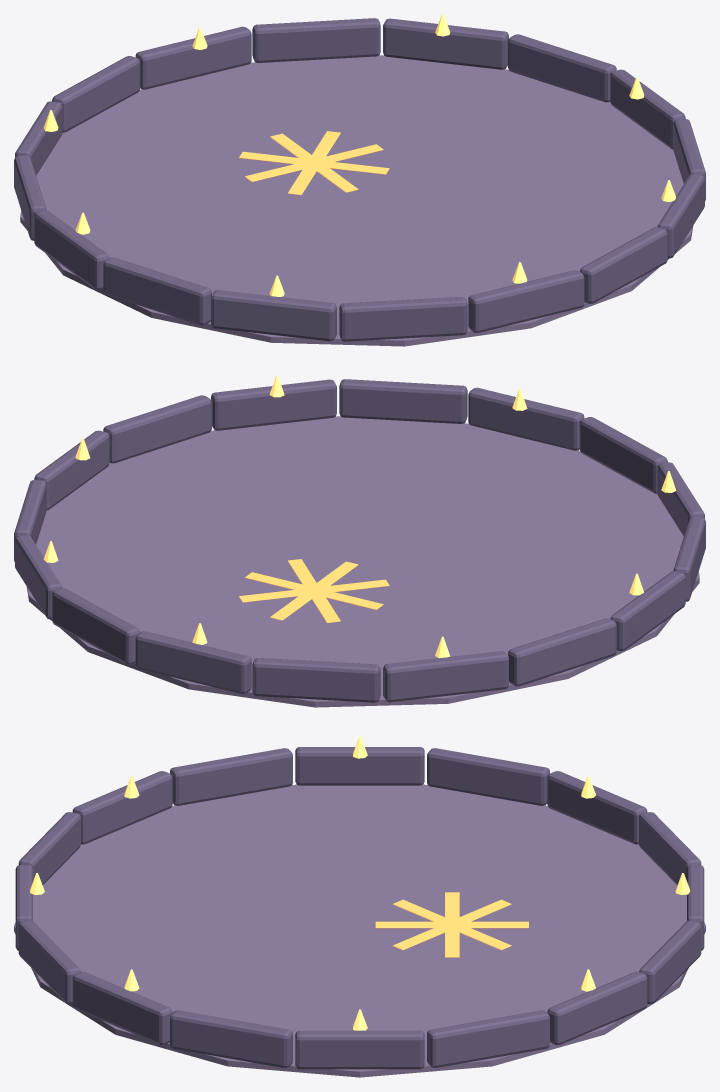
Rendered from ember_arena.glb.
3 renders of one model, top to bottom at view 1: azimuth 30°, elevation 25°; view 2: azimuth 150°, elevation 25°; view 3: azimuth 270°, elevation 25°, orthographic.
Visible parts, largest first — view 1: Surface.001, Trim.001, Trim.009, Trim.010, Trim.002, Trim.008, Trim, Trim.011, Trim.003, Trim.007, Trim.015, Trim.012 (+11 smaller); view 2: Surface.001, Trim.007, Trim.015, Trim.014, Trim.006, Trim, Trim.008, Trim.013, Trim.005, Trim.001, Trim.009, Trim.012 (+10 smaller); view 3: Surface.001, Trim.004, Trim.012, Trim.003, Trim.005, Trim.011, Trim.013, Trim.006, Trim.002, Trim.014, Trim.010, Trim.001 (+10 smaller).
Boxes of the visible parts, box(x1,y1,x2,y2) form: Surface.001: box(20, 55, 693, 346); Trim.001: box(252, 18, 380, 62); Trim.009: box(339, 297, 467, 341); Trim.010: box(211, 290, 336, 341); Trim.002: box(383, 18, 508, 69); Trim.008: box(468, 270, 584, 332); Trim: box(135, 26, 251, 89); Trim.011: box(103, 257, 211, 325); Trim.003: box(508, 34, 616, 102); Trim.007: box(580, 227, 667, 303); Trim.015: box(52, 56, 140, 132); Trim.012: box(34, 210, 109, 290); Surface.001: box(26, 416, 699, 707); Trim.007: box(339, 379, 467, 423); Trim.015: box(252, 658, 380, 702); Trim.014: box(383, 651, 508, 702); Trim.006: box(211, 379, 336, 430); Trim: box(135, 631, 251, 693); Trim.008: box(468, 387, 584, 450); Trim.013: box(508, 618, 616, 686); Trim.005: box(103, 395, 211, 463); Trim.001: box(52, 588, 139, 664); Trim.009: box(579, 417, 667, 493); Trim.012: box(610, 571, 685, 651); Surface.001: box(14, 784, 705, 1077); Trim.004: box(295, 1030, 424, 1069); Trim.012: box(295, 747, 424, 785); Trim.003: box(427, 1010, 549, 1067); Trim.005: box(170, 1010, 292, 1067); Trim.011: box(170, 748, 292, 805); Trim.013: box(427, 748, 549, 805); Trim.006: box(72, 971, 172, 1045); Trim.002: box(547, 971, 647, 1045); Trim.014: box(547, 771, 647, 844); Trim.010: box(72, 771, 172, 844); Trim.001: box(639, 920, 701, 1003).
Size of the model in its own units: 54 by 5 by 54.
